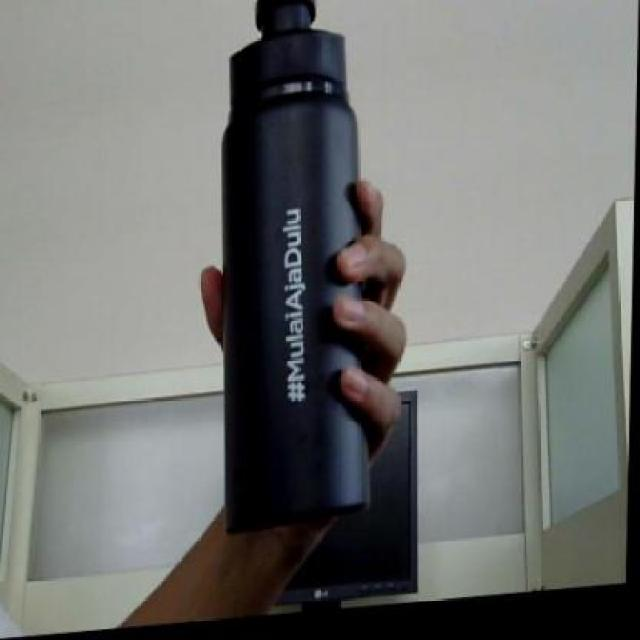Metal: (217, 84, 380, 541)
